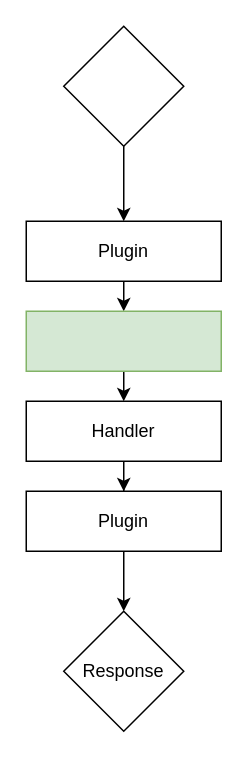
The diagram is 248 pixels wide and 758 high, and some of its shapes have lost their labels. Here are the shapes that lost their labels. From the top down, the box of each, then its label:
(62, 25, 184, 146): Request
(25, 310, 221, 371): Controller
